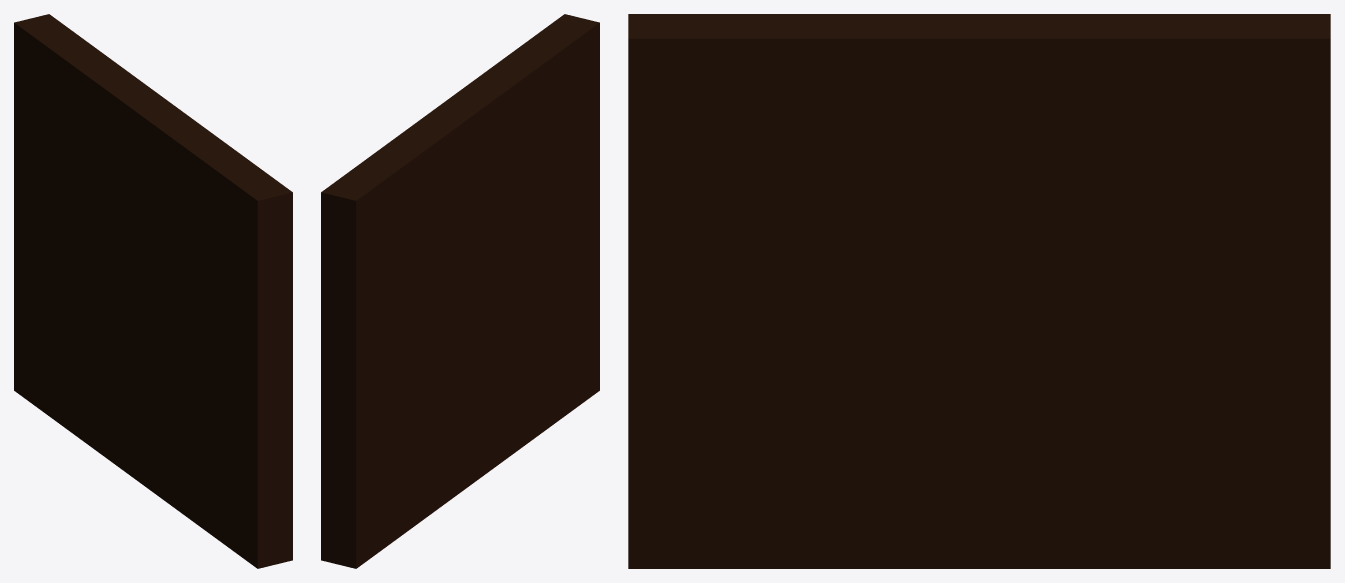
Rendered from Wall.FBX.
The picture shows the model from 3 angles, left to right: view 1: azimuth 30°, elevation 25°; view 2: azimuth 150°, elevation 25°; view 3: azimuth 270°, elevation 25°; orthographic projection. The views are drawn at different scales.
Parts seen in each view (by area): view 1: Wall; view 2: Wall; view 3: Wall.
Boxes of the visible parts, left/top/right/bottom form: Wall: left=14, top=14, right=292, bottom=568; Wall: left=321, top=14, right=599, bottom=568; Wall: left=628, top=14, right=1330, bottom=568.
Size of the model in its own units: 0.25 by 2.5 by 3.
